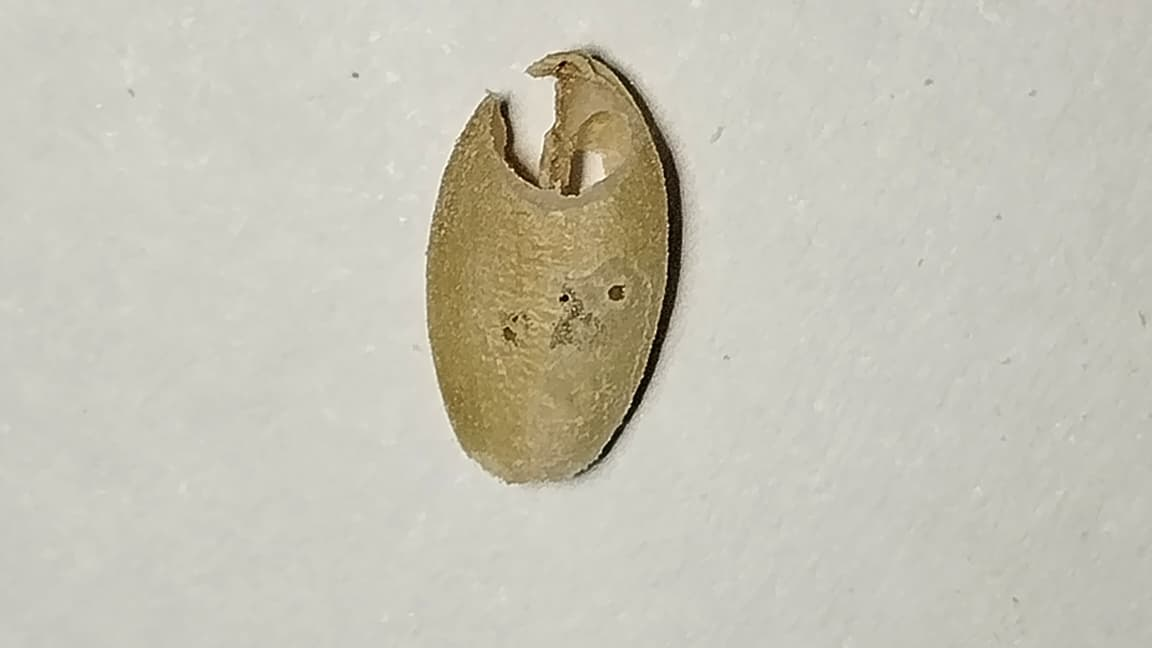damage: (427, 52, 673, 481)
insectdamage: (485, 60, 636, 210), (501, 260, 628, 349), (552, 70, 624, 101)
